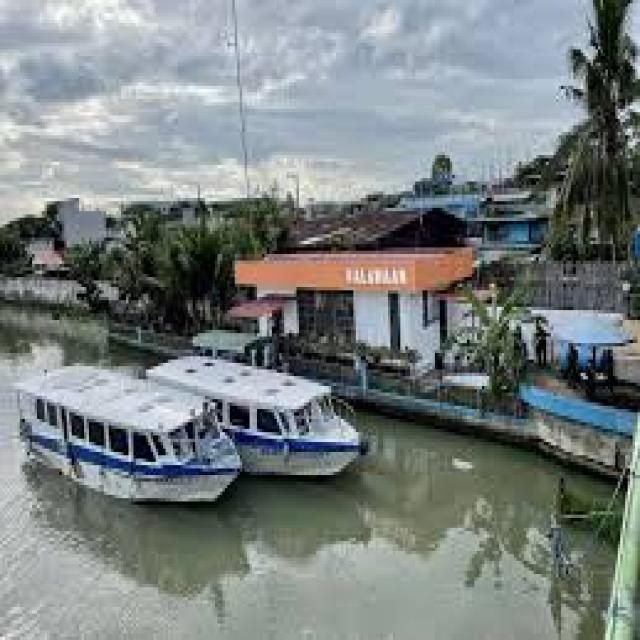houseboat: (145, 338, 366, 500), (20, 347, 230, 508)
